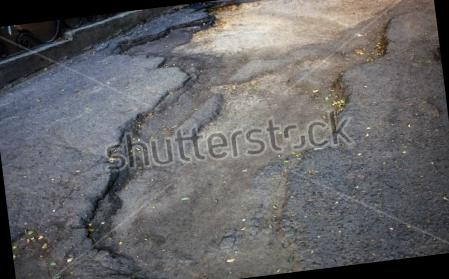pothole: (34, 0, 449, 279)
